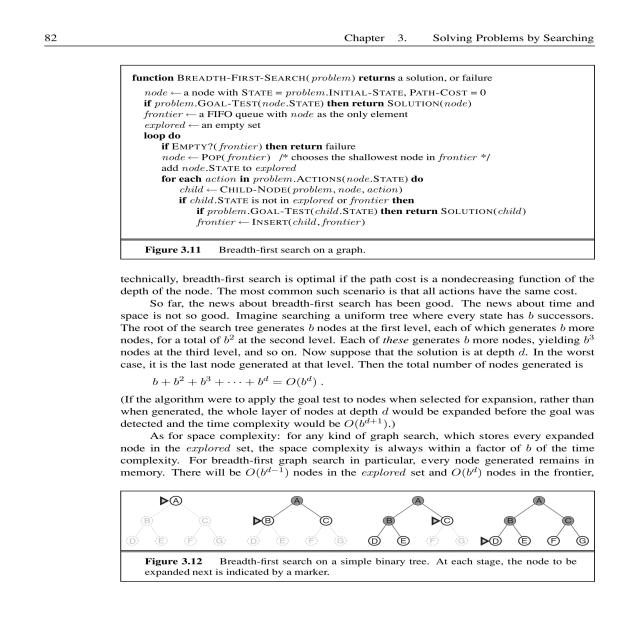diagram: (118, 476, 618, 580)
